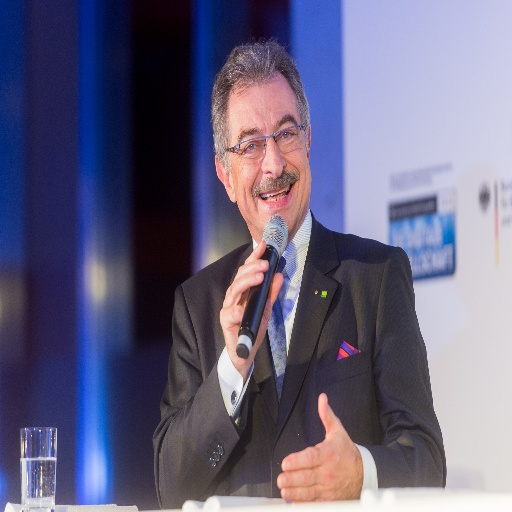hand: (217, 237, 285, 368), (280, 409, 379, 497)
